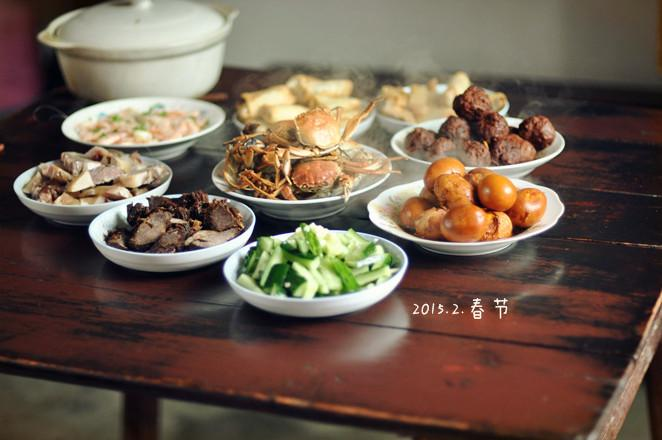food: (215, 94, 395, 214), (38, 0, 242, 100), (226, 213, 410, 314), (372, 158, 560, 255), (389, 73, 562, 175), (86, 187, 255, 275), (64, 86, 223, 162), (17, 148, 170, 222)
